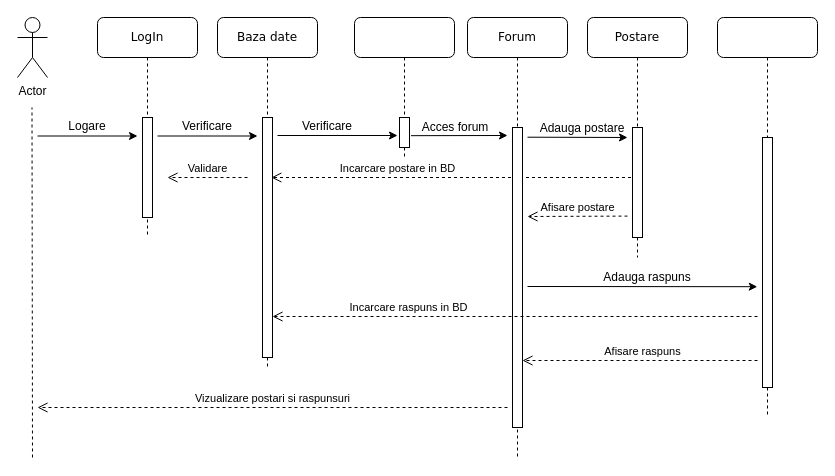
Image size: 835x476. Some labels were removed from this diagram. The shapes that lost their labels are listed below. From the top down, each one's box as (x1, y1, x2, y2) in pixels, then its label:
(354, 16, 454, 158): Student
(716, 16, 818, 418): Discussion
